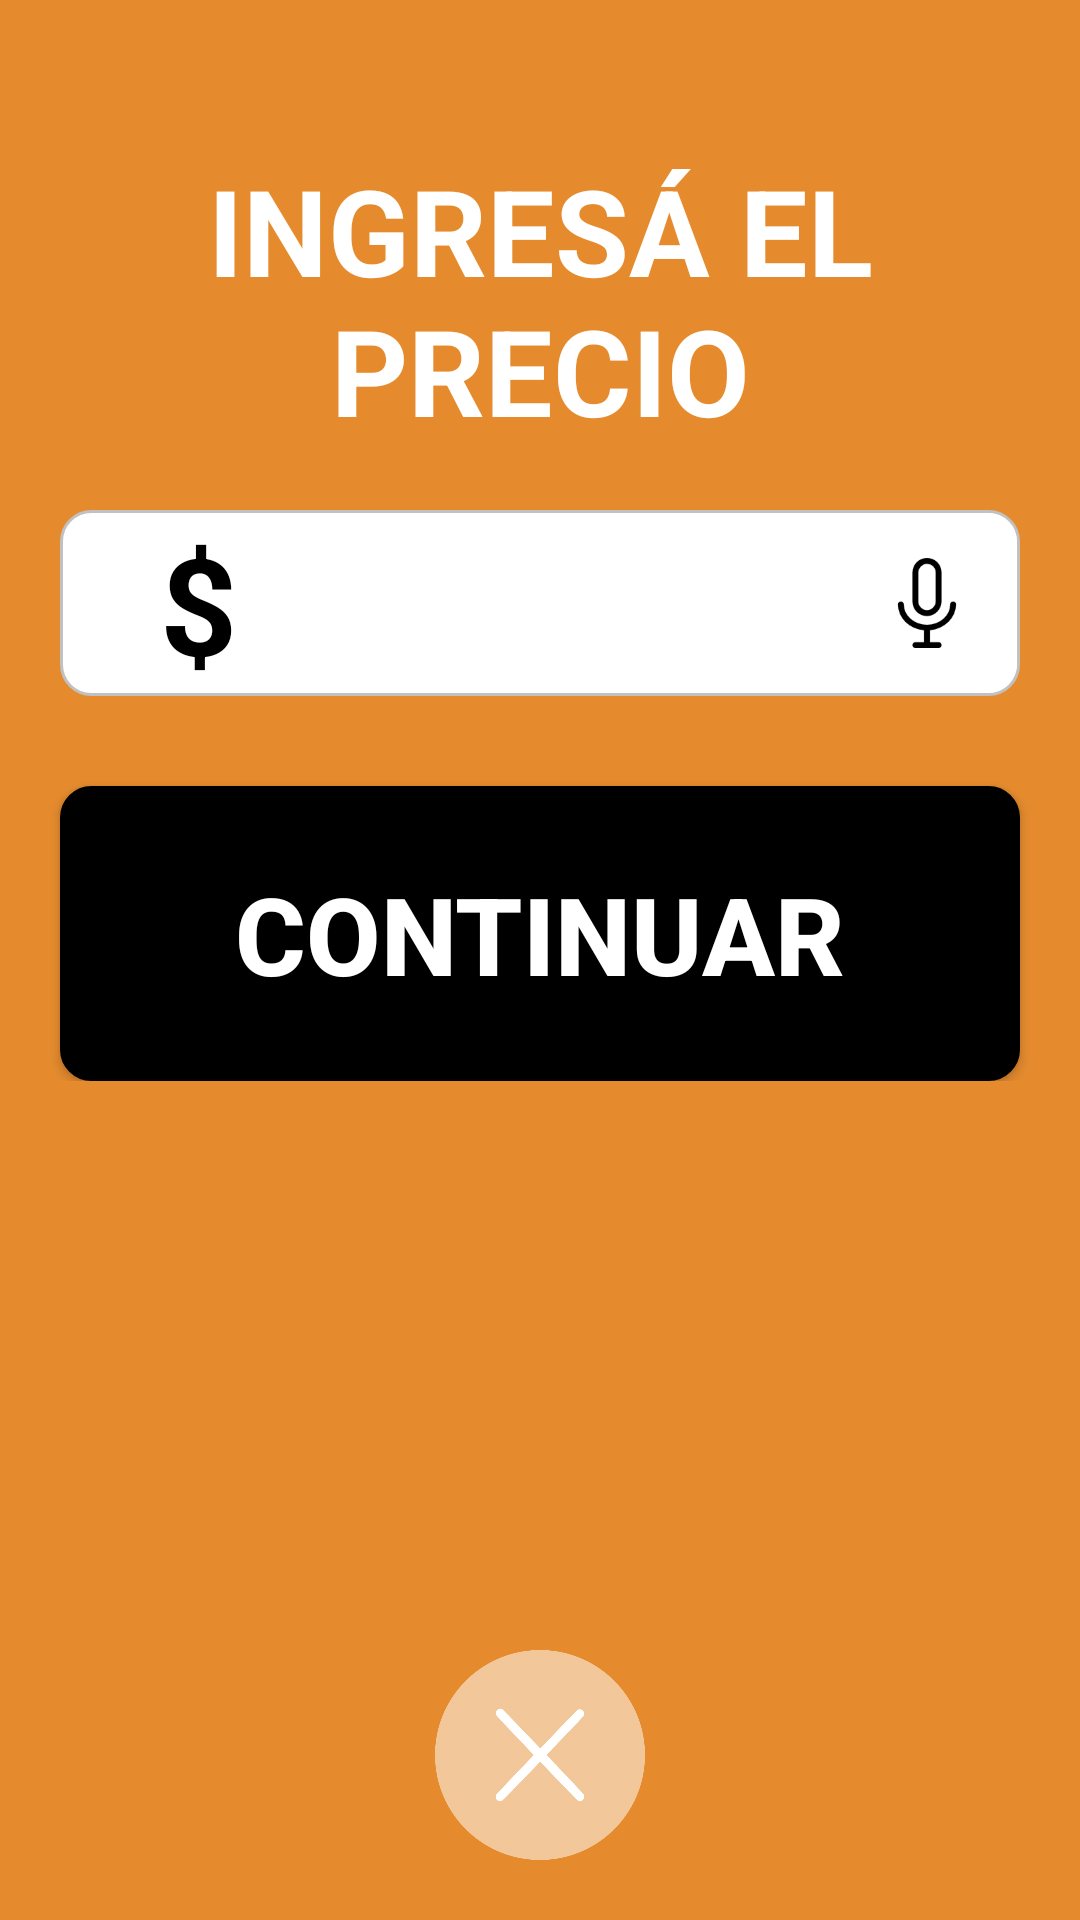

Named icons in this screenshot (1080w x 1920h) and their centers, [x,y]:
cancelar: [540,1755]
mic: [927,603]
